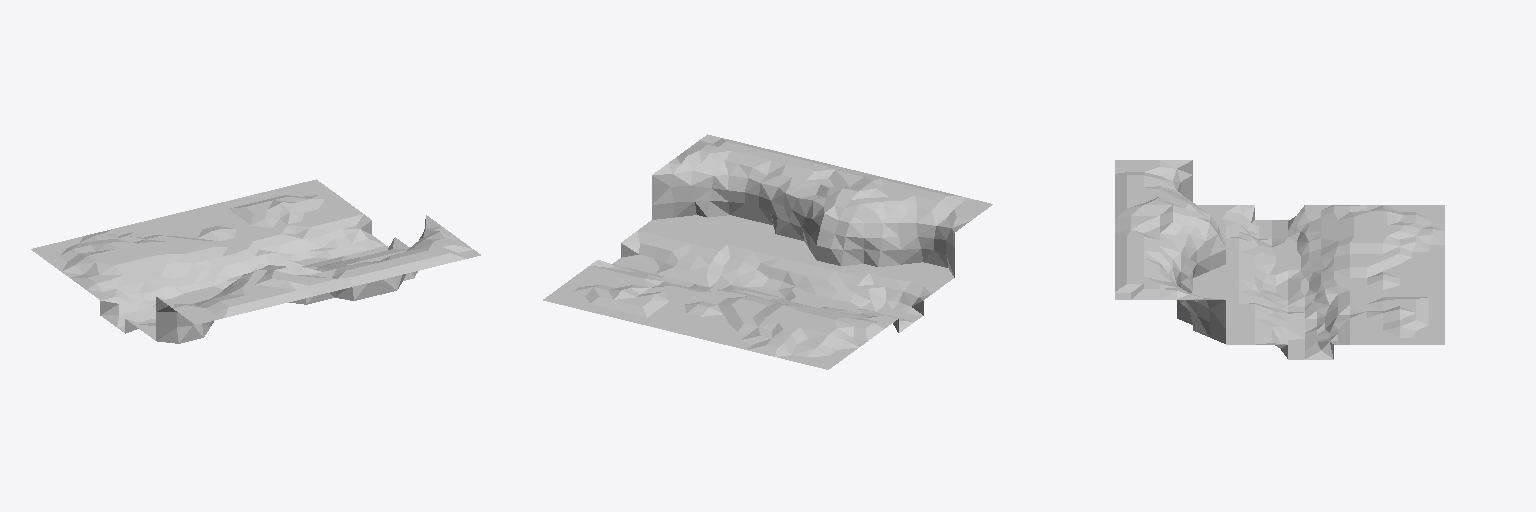
Rendered from valley.obj.
3 views of the same model, side by side, from view 1: azimuth 30°, elevation 25°; view 2: azimuth 150°, elevation 25°; view 3: azimuth 270°, elevation 25° (orthographic).
Parts seen in each view (by area): view 1: Grid; view 2: Grid; view 3: Grid.
Part boxes in pixels (bbox=[...]): Grid: bbox=[31, 179, 480, 343]; Grid: bbox=[543, 134, 992, 369]; Grid: bbox=[1115, 160, 1444, 359].
Bounding box in the file's own units: 20 × 4.5 × 20.